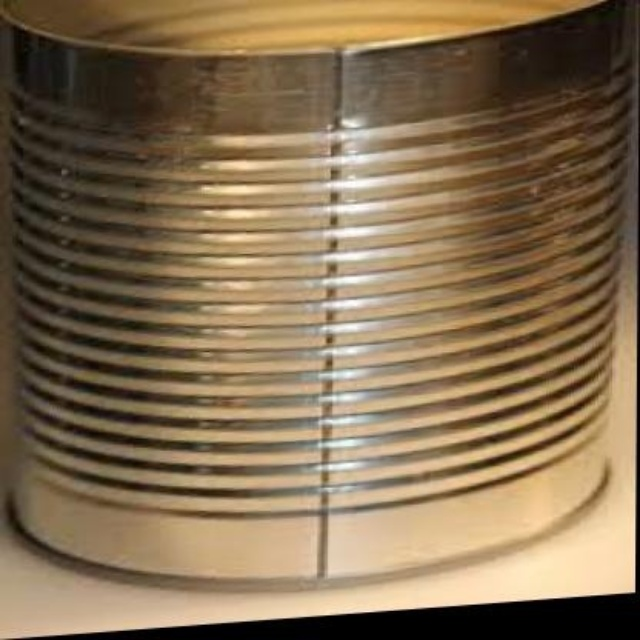trash: (3, 0, 635, 600)
